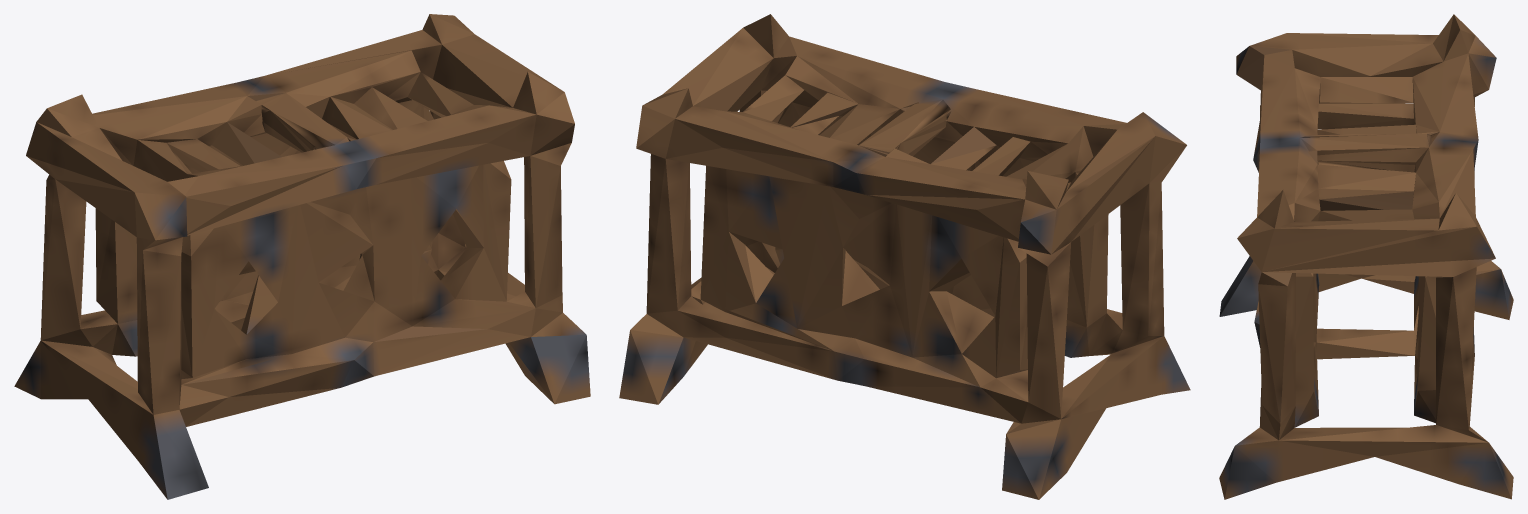
The model's file is SM_MeshyStocks.fbx.
3 views of the same model, side by side, from view 1: azimuth 30°, elevation 25°; view 2: azimuth 150°, elevation 25°; view 3: azimuth 270°, elevation 25° (orthographic). The views are drawn at different scales.
Parts seen in each view (by area): view 1: SM_MeshyStocks; view 2: SM_MeshyStocks; view 3: SM_MeshyStocks.
Part boxes in pixels (box(x1,y1,x2,y2)): SM_MeshyStocks: box(14, 14, 590, 499); SM_MeshyStocks: box(619, 14, 1190, 499); SM_MeshyStocks: box(1219, 14, 1513, 499).
Bounding box in the file's own units: 1.32 × 0.9074 × 0.8199.
Materials: 1 (1 with a texture image).
